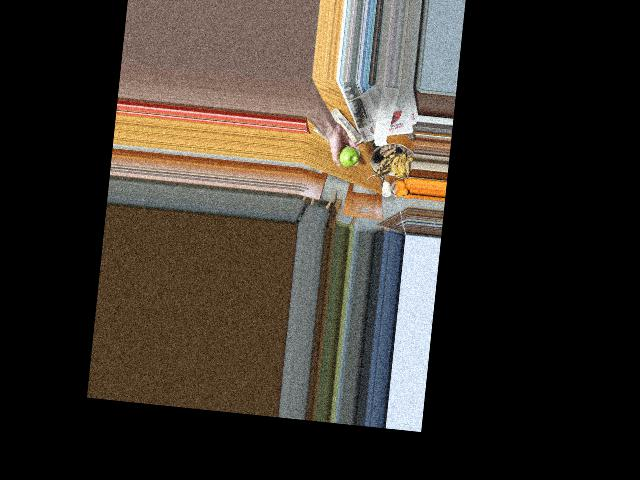apple: (338, 144, 358, 168)
